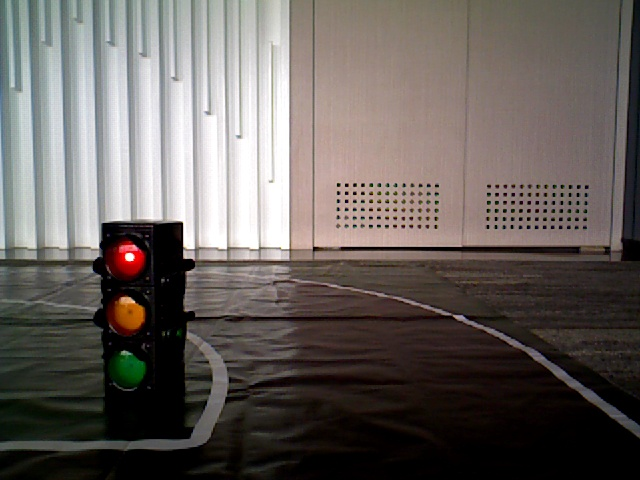red: (104, 230, 164, 390)
